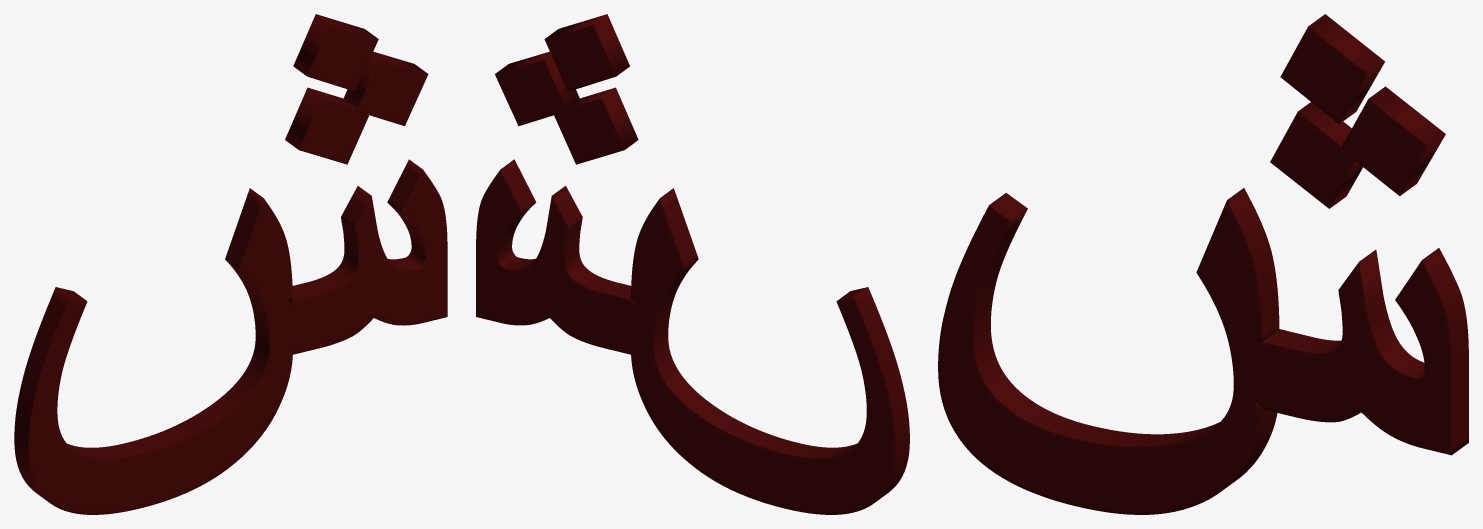
The model's file is Sya.obj.
3 renders of one model, left to right at view 1: azimuth 30°, elevation 25°; view 2: azimuth 150°, elevation 25°; view 3: azimuth 330°, elevation 25°, orthographic. The views are drawn at different scales.
Visible parts, largest first — view 1: Curve.012; view 2: Curve.012; view 3: Curve.012.
Boxes of the visible parts, x1=… form: Curve.012: x1=14, y1=14, x2=447, y2=514; Curve.012: x1=476, y1=14, x2=909, y2=514; Curve.012: x1=938, y1=14, x2=1468, y2=514.
Size of the model in its own units: 5.15 by 5.14 by 0.3191.
